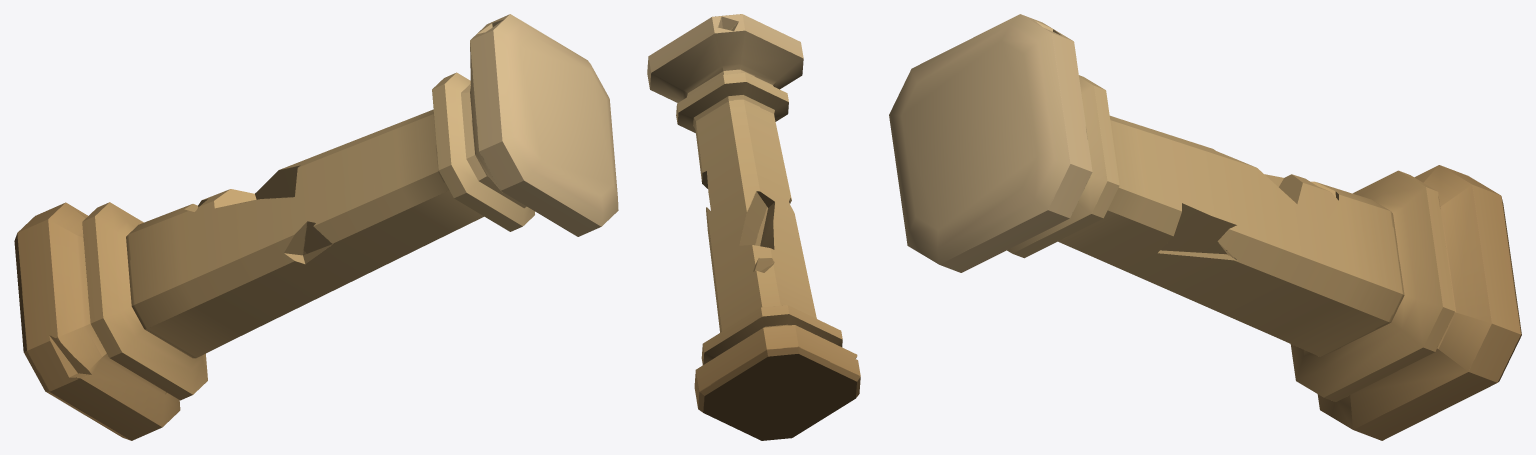
Rendered from Columna_Caida.glb.
3 views of the same model, side by side, from view 1: azimuth 30°, elevation 25°; view 2: azimuth 150°, elevation 25°; view 3: azimuth 270°, elevation 25° (orthographic). The views are drawn at different scales.
Parts seen in each view (by area): view 1: Pillar_Fallen; view 2: Pillar_Fallen; view 3: Pillar_Fallen.
Boxes of the visible parts, x1,y1,x2,y2 form: Pillar_Fallen: (14,14,618,440); Pillar_Fallen: (647,14,860,440); Pillar_Fallen: (889,14,1521,440).
Bounding box in the file's own units: 3.87 × 3.83 × 4.15.
1 material, 1 textured.
